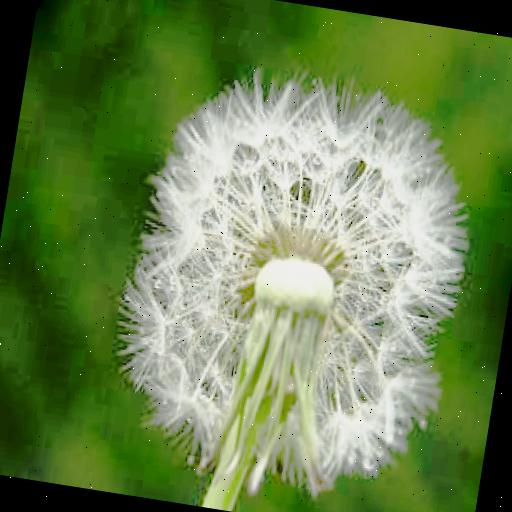dandelion: (105, 48, 482, 502)
